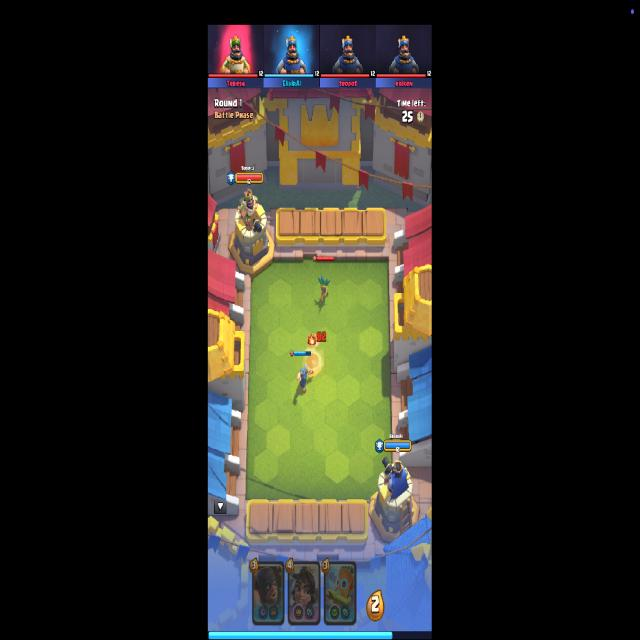card_dart_goblin: (322, 559, 357, 628)
card_executioner: (251, 560, 284, 624)
card_princess: (287, 560, 321, 627)
dart_goblin: (317, 274, 332, 306)
knight: (296, 363, 314, 394)
